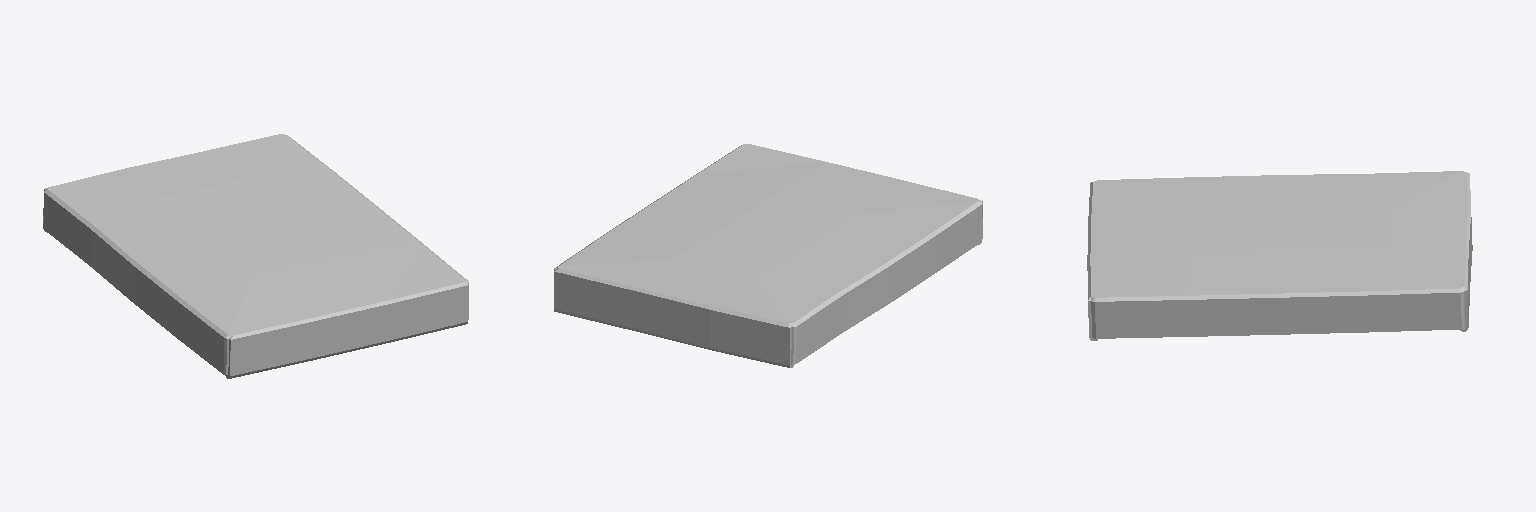
3 renders of one model, left to right at view 1: azimuth 30°, elevation 25°; view 2: azimuth 150°, elevation 25°; view 3: azimuth 270°, elevation 25°, orthographic.
Parts seen in each view (by area): view 1: BOX_LID_BOX.001; view 2: BOX_LID_BOX.001; view 3: BOX_LID_BOX.001.
Part boxes in pixels (x1,y1,x2,y2): BOX_LID_BOX.001: (43, 134, 468, 378); BOX_LID_BOX.001: (554, 144, 982, 367); BOX_LID_BOX.001: (1087, 171, 1472, 340).
Size of the model in its own units: 0.3235 by 0.0707 by 0.436.